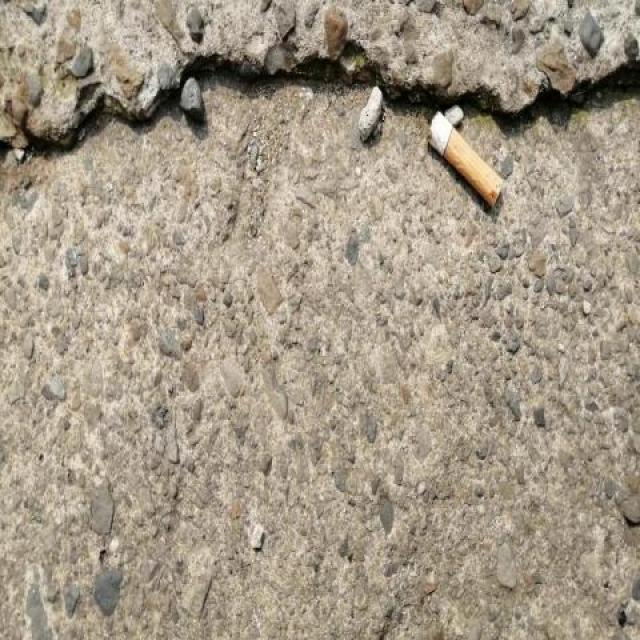non-organic waste: (423, 106, 509, 211)
